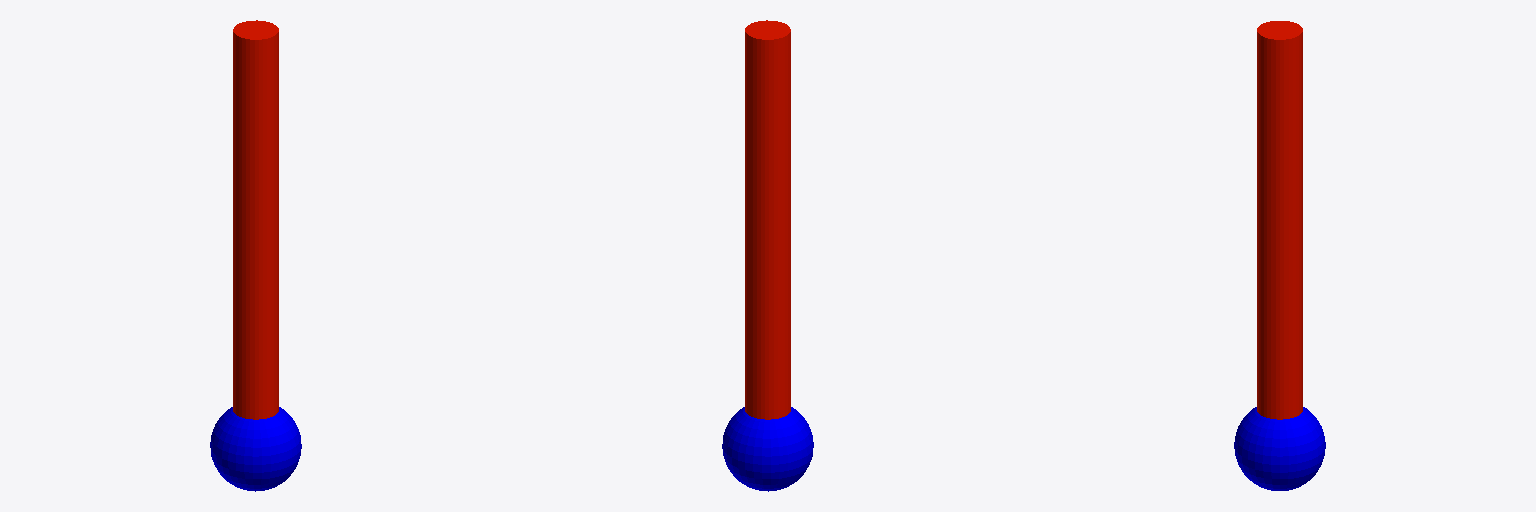
The robot description file, URDF, robot "SpringPendulum":
<?xml version="1.0"?>

<robot xmlns="http://drake.mit.edu"
 xmlns:xsi="http://www.w3.org/2001/XMLSchema-instance"
 xsi:schemaLocation="http://drake.mit.edu ../../../../doc/drakeURDF.xsd" name="SpringPendulum">
  <material name="green">
    <color rgba=".3 .6 .4 1" />
  </material>
  <material name="red">
    <color rgba=".9 .1 0 1" />
  </material>
  <material name="blue">
    <color rgba="0 0 1 1" />
  </material>
  <link name="base"/>
  <link name="arm">
    <inertial>
      <origin xyz="0 0 -0.5" rpy="0 0 0" />
      <mass value="1" />
      <inertia ixx="0.08395" ixy="0" ixz="0" iyy="0.08395" iyz="0" izz="0.00125"/>
    </inertial>
    <visual>
      <origin xyz="0 0 -0.5" rpy="0 0 0" />
      <geometry>
       	<cylinder length="1" radius="0.05" />
      </geometry>
      <material name="red" />
    </visual>
  </link>
  <joint name="theta" type="continuous">
    <parent link="base" />
    <child link="arm" />
    <origin xyz="0 0 0"/>
    <axis xyz="0 1 0" />
    <dynamics damping="0" />
  </joint>
  <link name="ball">
    <inertial>
      <origin xyz="0 0 0" rpy="0 0 0" />
      <mass value="0.5"/>
      <inertia ixx="0.002" ixy="0" ixz="0" iyy="0.002" iyz="0" izz="0.002"/>
    </inertial>
    <visual>
      <origin xyz="0 0 0"/>
      <geometry>
        <sphere radius=".1"/>
      </geometry>
      <material name="blue" />
    </visual>
  </link>
  <joint name="ball_weld" type="fixed">
    <parent link="arm" />
    <child link="ball" />
    <origin xyz="0 0 -1" />
  </joint>
  <force_element name="spring">
    <linear_spring_damper stiffness="10" damping="1">
      <link1 link="base" xyz="1 0 0"/>
      <link2 link="ball" xyz="0 0 0"/>
    </linear_spring_damper>
  </force_element>
</robot>

--- Facts derived from the render (not from the file) ---
The picture shows the robot from 3 angles, left to right: view 1: azimuth 30°, elevation 25°; view 2: azimuth 150°, elevation 25°; view 3: azimuth 270°, elevation 25°; orthographic projection.
Robot: SpringPendulum — 3 links, 2 joints (1 continuous, 1 fixed); root link base; default pose: every joint at zero.
Visible links, largest first — view 1: arm, ball; view 2: arm, ball; view 3: arm, ball.
Link boxes in pixels (x1=…): arm: x1=233, y1=20, x2=278, y2=419; ball: x1=210, y1=407, x2=301, y2=491; arm: x1=745, y1=20, x2=790, y2=419; ball: x1=722, y1=407, x2=813, y2=491; arm: x1=1257, y1=21, x2=1302, y2=419; ball: x1=1234, y1=407, x2=1325, y2=490.
Size in the robot's own frame: 0.2 by 0.2 by 1.1 metres.
Geometry: primitives only (box / cylinder / sphere), no mesh files.